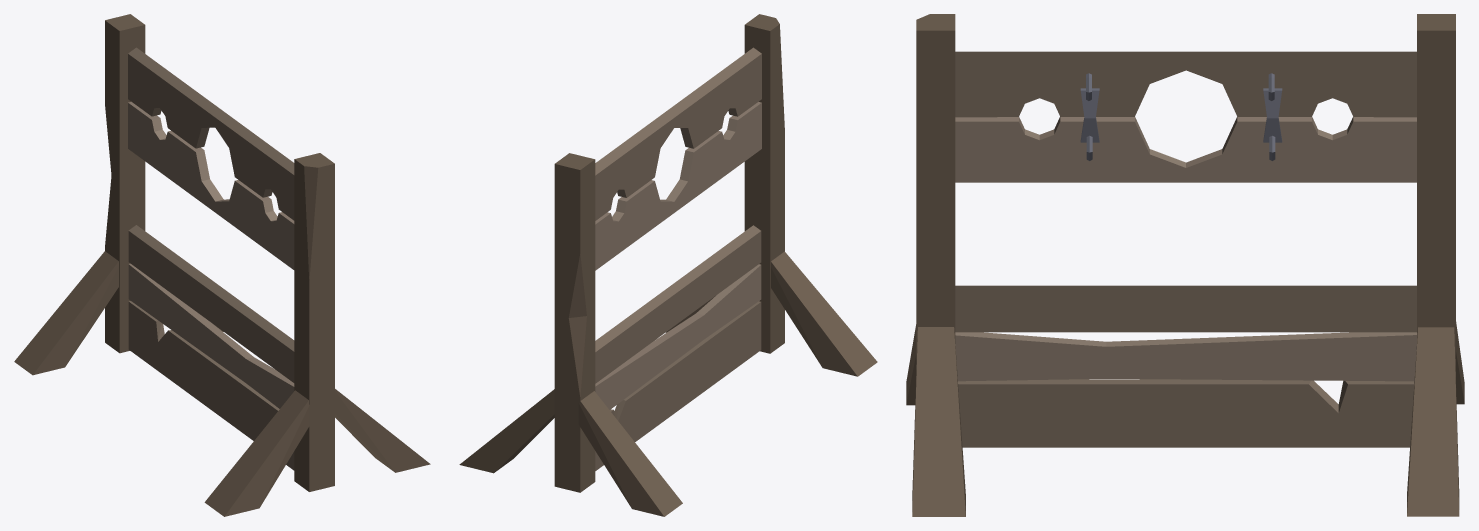
The model's file is pads.glb.
3 views of the same model, side by side, from view 1: azimuth 30°, elevation 25°; view 2: azimuth 150°, elevation 25°; view 3: azimuth 270°, elevation 25° (orthographic). The views are drawn at different scales.
Visible parts, largest first — view 1: pads; view 2: pads; view 3: pads.
Boxes of the visible parts, bbox=[...] form: pads: bbox=[14, 14, 430, 516]; pads: bbox=[459, 14, 877, 516]; pads: bbox=[906, 14, 1464, 516].
Bounding box in the file's own units: 0.0855 × 0.1261 × 0.15.
Materials: 1 (1 with a texture image).
